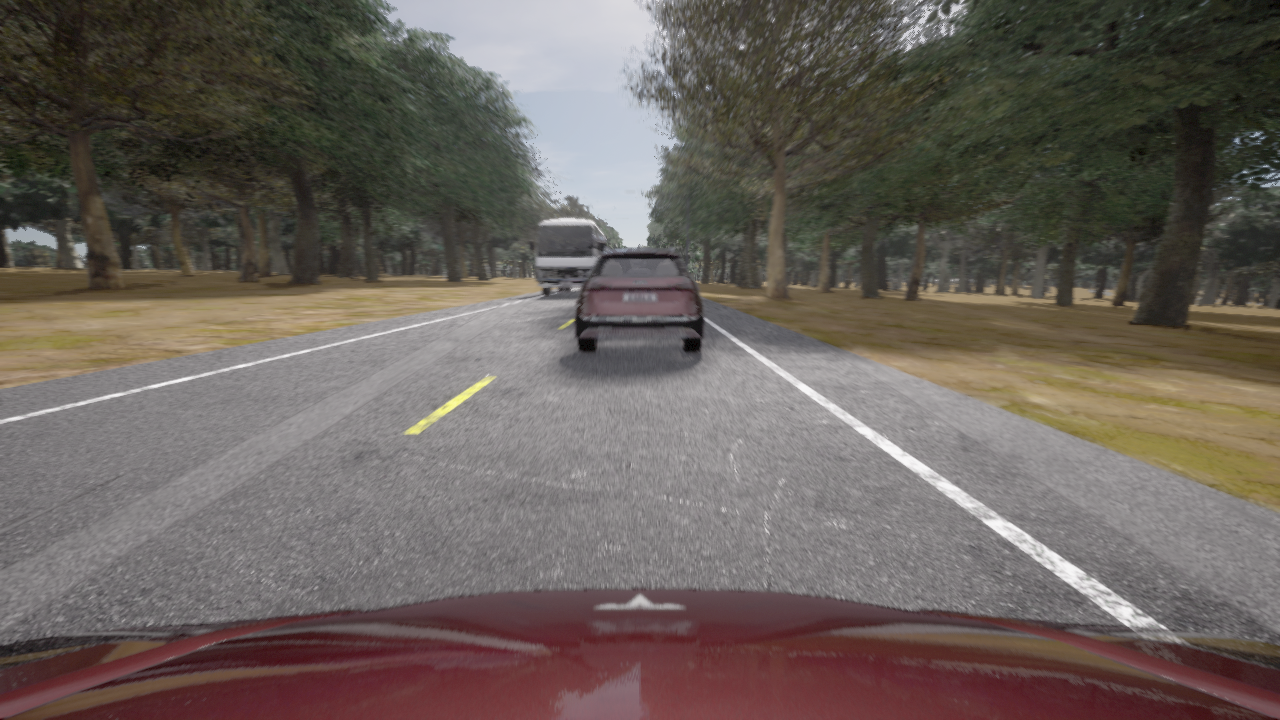cyclist: (0, 588, 1279, 719), (575, 245, 703, 352), (529, 218, 606, 295)
